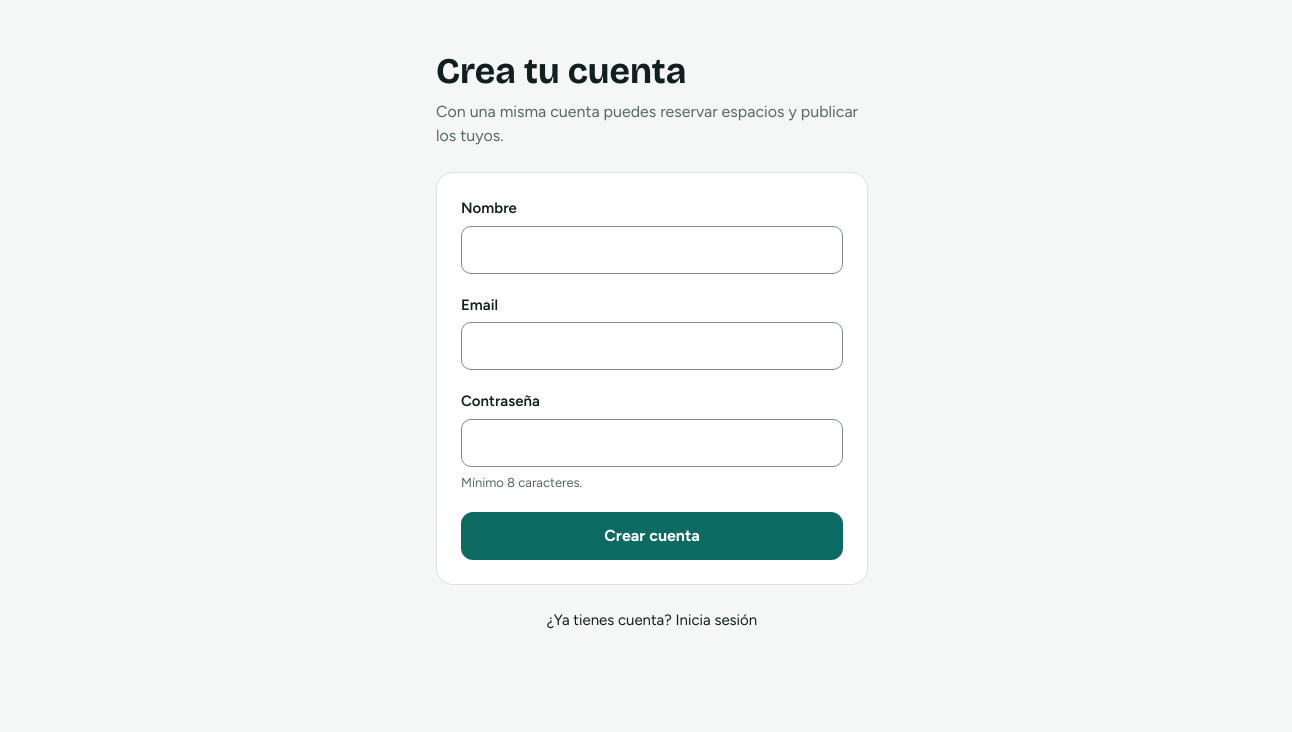
Test case: RegisterPage › crea la cuenta y lleva al login con el email
The width and height of the screenshot is (1292, 732).
Type "Ana" into the field labelled "Nombre" at (652, 250), box x1=461 y1=226 x2=843 y2=274
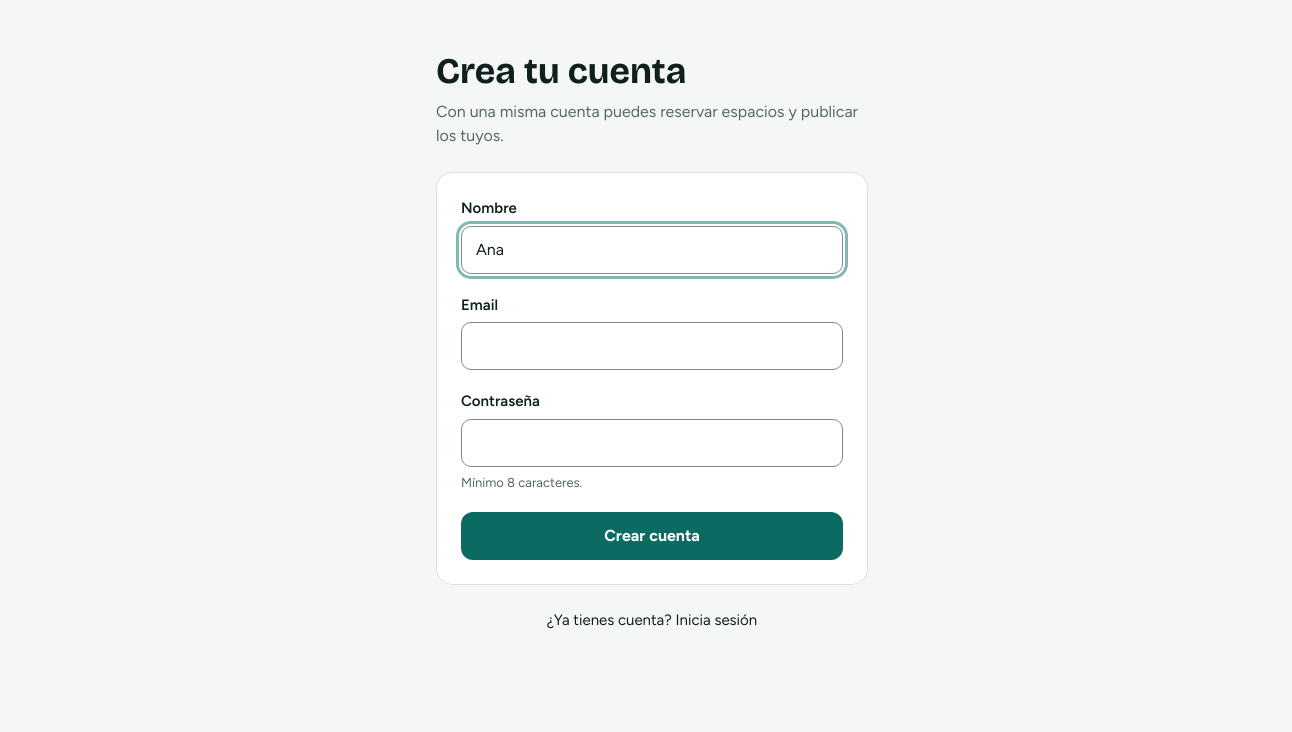
Type "Ana@Mail.com" into the field labelled "Email" at (652, 346), box x1=461 y1=322 x2=843 y2=370
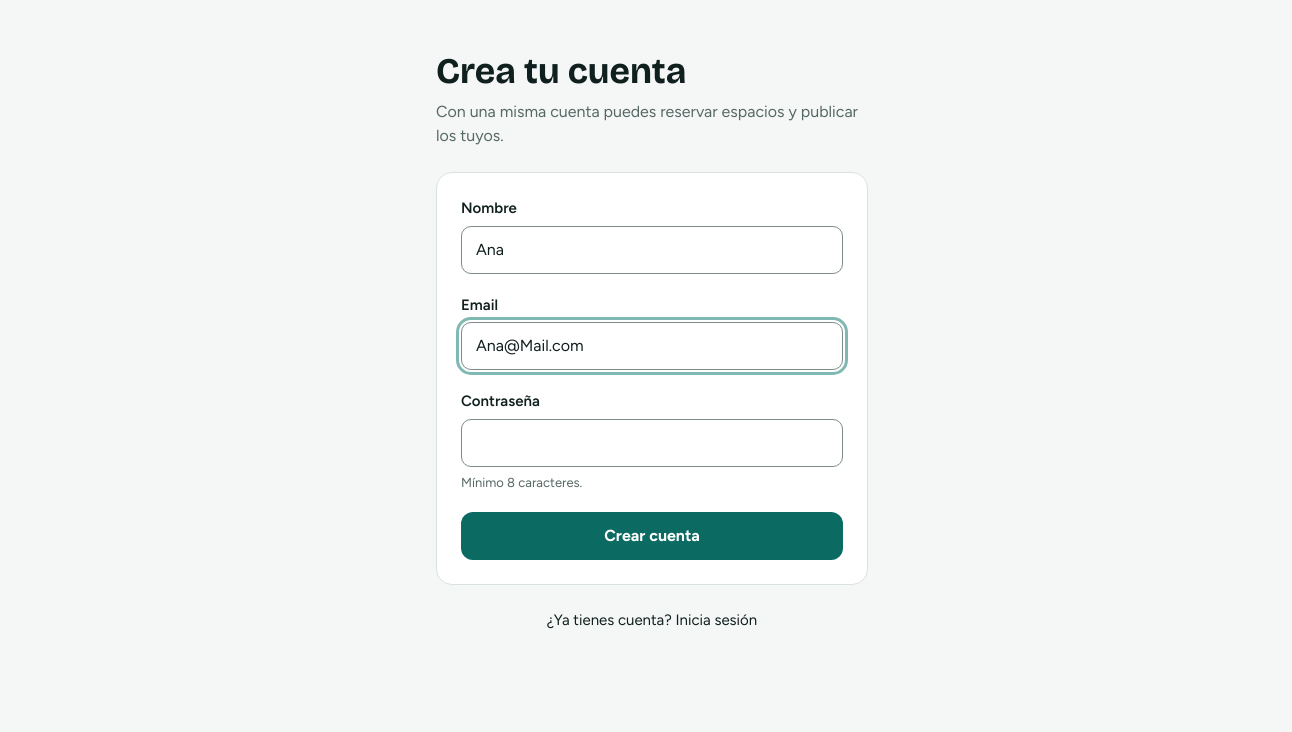
Type "Password123" into the password field labelled "Contraseña" at (652, 442), box x1=461 y1=418 x2=843 y2=466
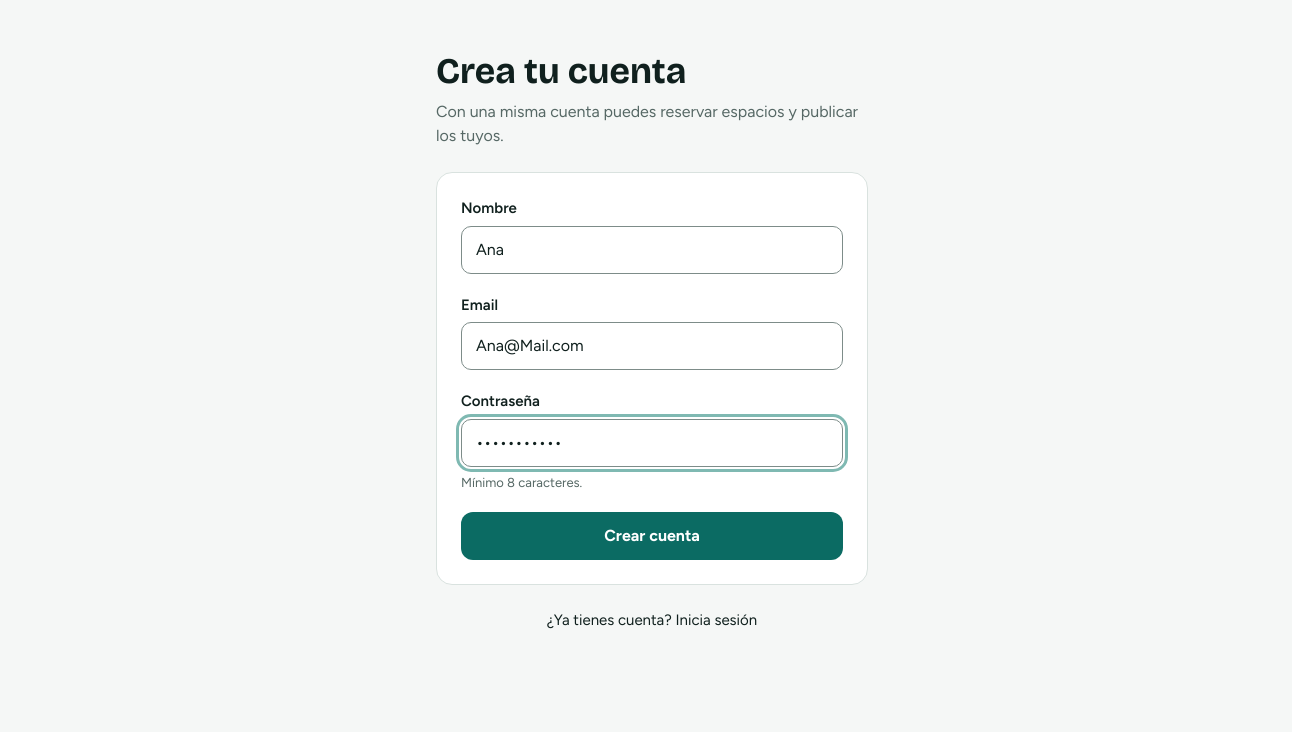
Click the button "Crear cuenta" at (652, 536), box x1=461 y1=512 x2=843 y2=560
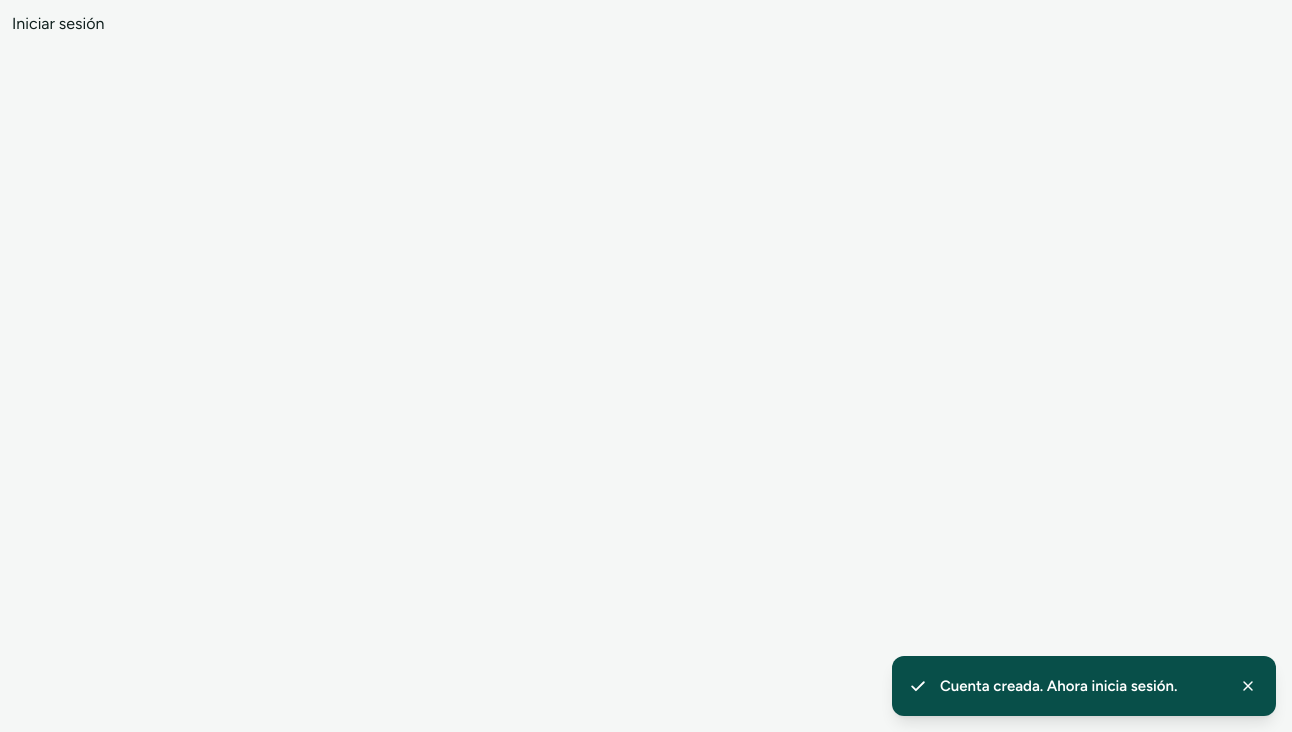
Check: the heading "Iniciar sesión" is shown, box x1=12 y1=14 x2=104 y2=33
Check: the text "Cuenta creada. Ahora inicia sesión." is shown, box x1=940 y1=677 x2=1178 y2=695
